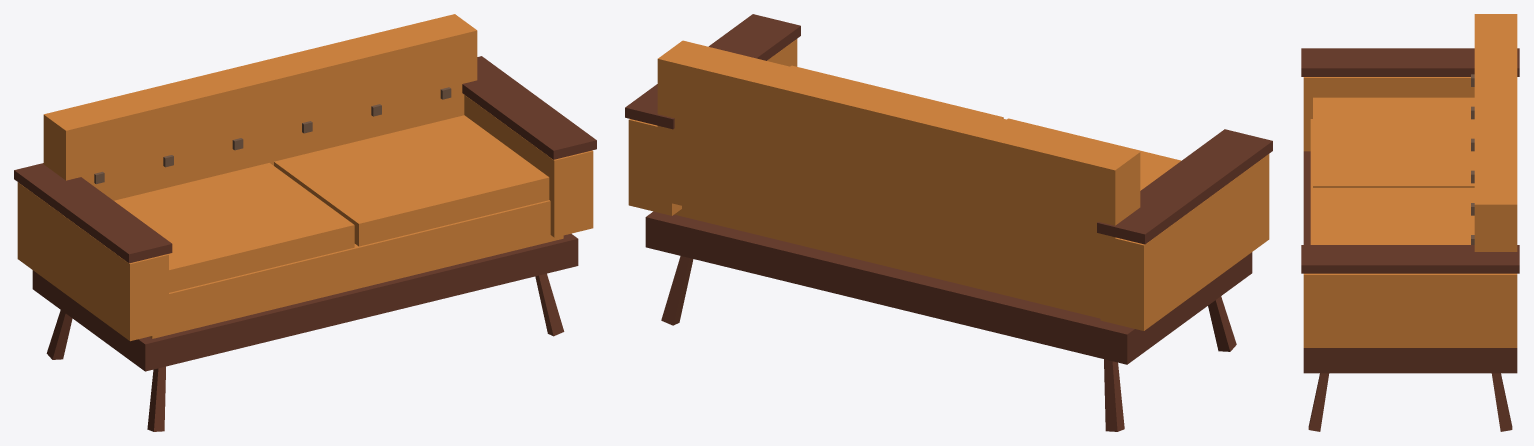
File: GH_Sofa_Retro_01.glb
The picture shows the model from 3 angles, left to right: view 1: azimuth 30°, elevation 25°; view 2: azimuth 150°, elevation 25°; view 3: azimuth 270°, elevation 25°; orthographic projection. The views are drawn at different scales.
Parts seen in each view (by area): view 1: GH_Sofa_Retro_01; view 2: GH_Sofa_Retro_01; view 3: GH_Sofa_Retro_01.
Boxes of the visible parts, left/top/right/bottom form: GH_Sofa_Retro_01: left=14, top=14, right=596, bottom=431; GH_Sofa_Retro_01: left=625, top=14, right=1272, bottom=431; GH_Sofa_Retro_01: left=1301, top=14, right=1519, bottom=431.
Bounding box in the file's own units: 2.16 × 1.06 × 0.92.
Materials: 1 (1 with a texture image).
